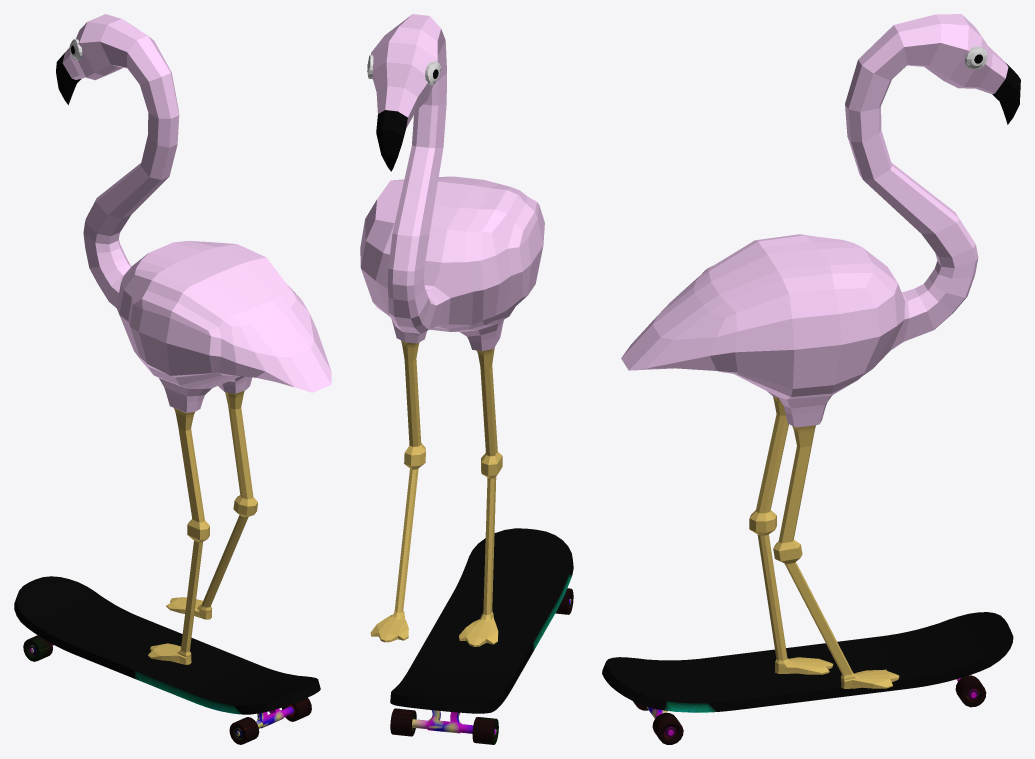
Rendered from Flamingo_02.glb.
The picture shows the model from 3 angles, left to right: view 1: azimuth 30°, elevation 25°; view 2: azimuth 150°, elevation 25°; view 3: azimuth 270°, elevation 25°; orthographic projection. The views are drawn at different scales.
Parts seen in each view (by area): view 1: Flamingo, skateboard, wheels, Wheels Base, wheels2; view 2: Flamingo, skateboard, wheels2, Wheels Base; view 3: Flamingo, skateboard, wheels.
Boxes of the visible parts, x1,y1,x2,y2 form: Flamingo: (56,14,331,664); skateboard: (14,576,320,714); wheels: (229,697,311,744); Wheels Base: (29,644,293,738); wheels2: (23,635,52,661); Flamingo: (360,14,544,646); skateboard: (390,528,573,713); wheels2: (390,708,498,744); Wheels Base: (412,596,571,736); Flamingo: (621,14,1020,688); skateboard: (602,612,1013,712); wheels: (633,701,683,744).
Size of the model in its own units: 0.3105 by 1 by 0.5524.
Materials: 5 (1 with a texture image).
